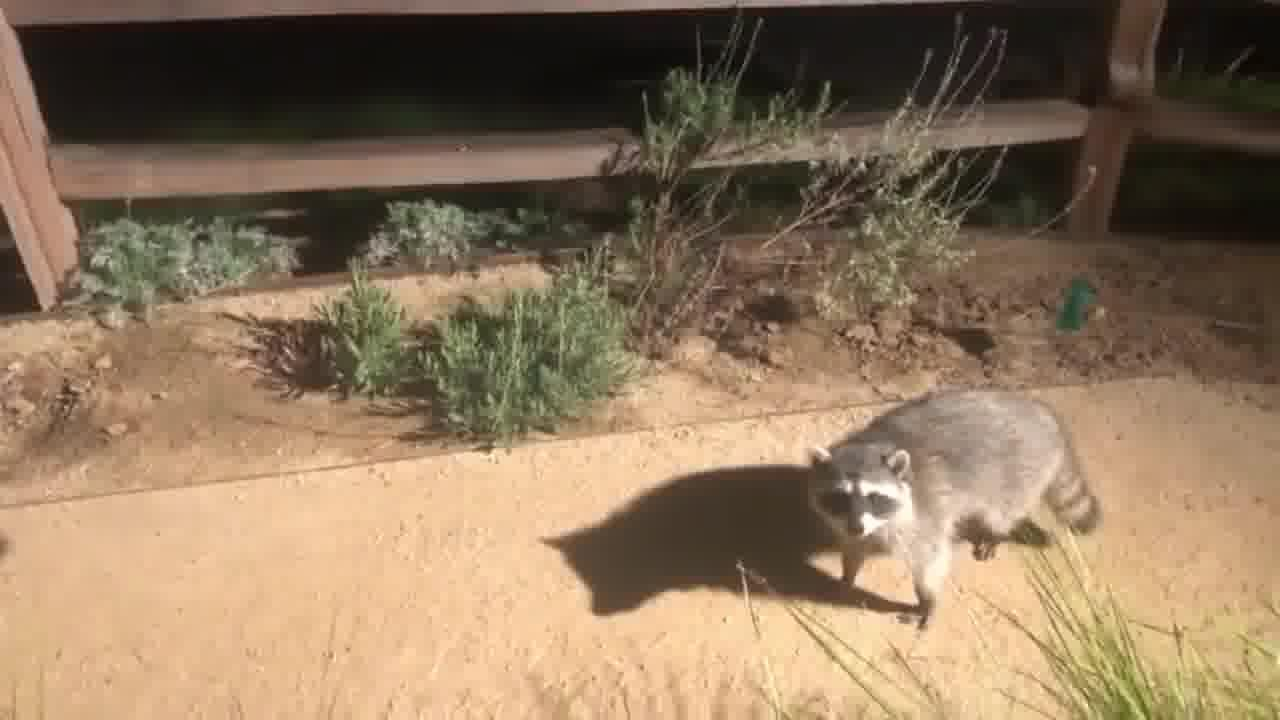raccoon: (791, 364, 1112, 643)
